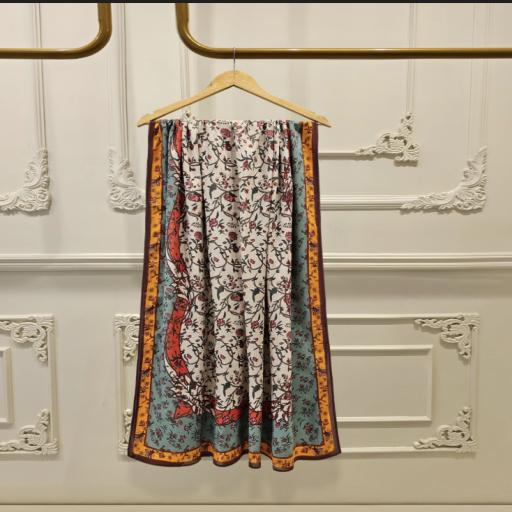Dupatta: (132, 110, 354, 472)
